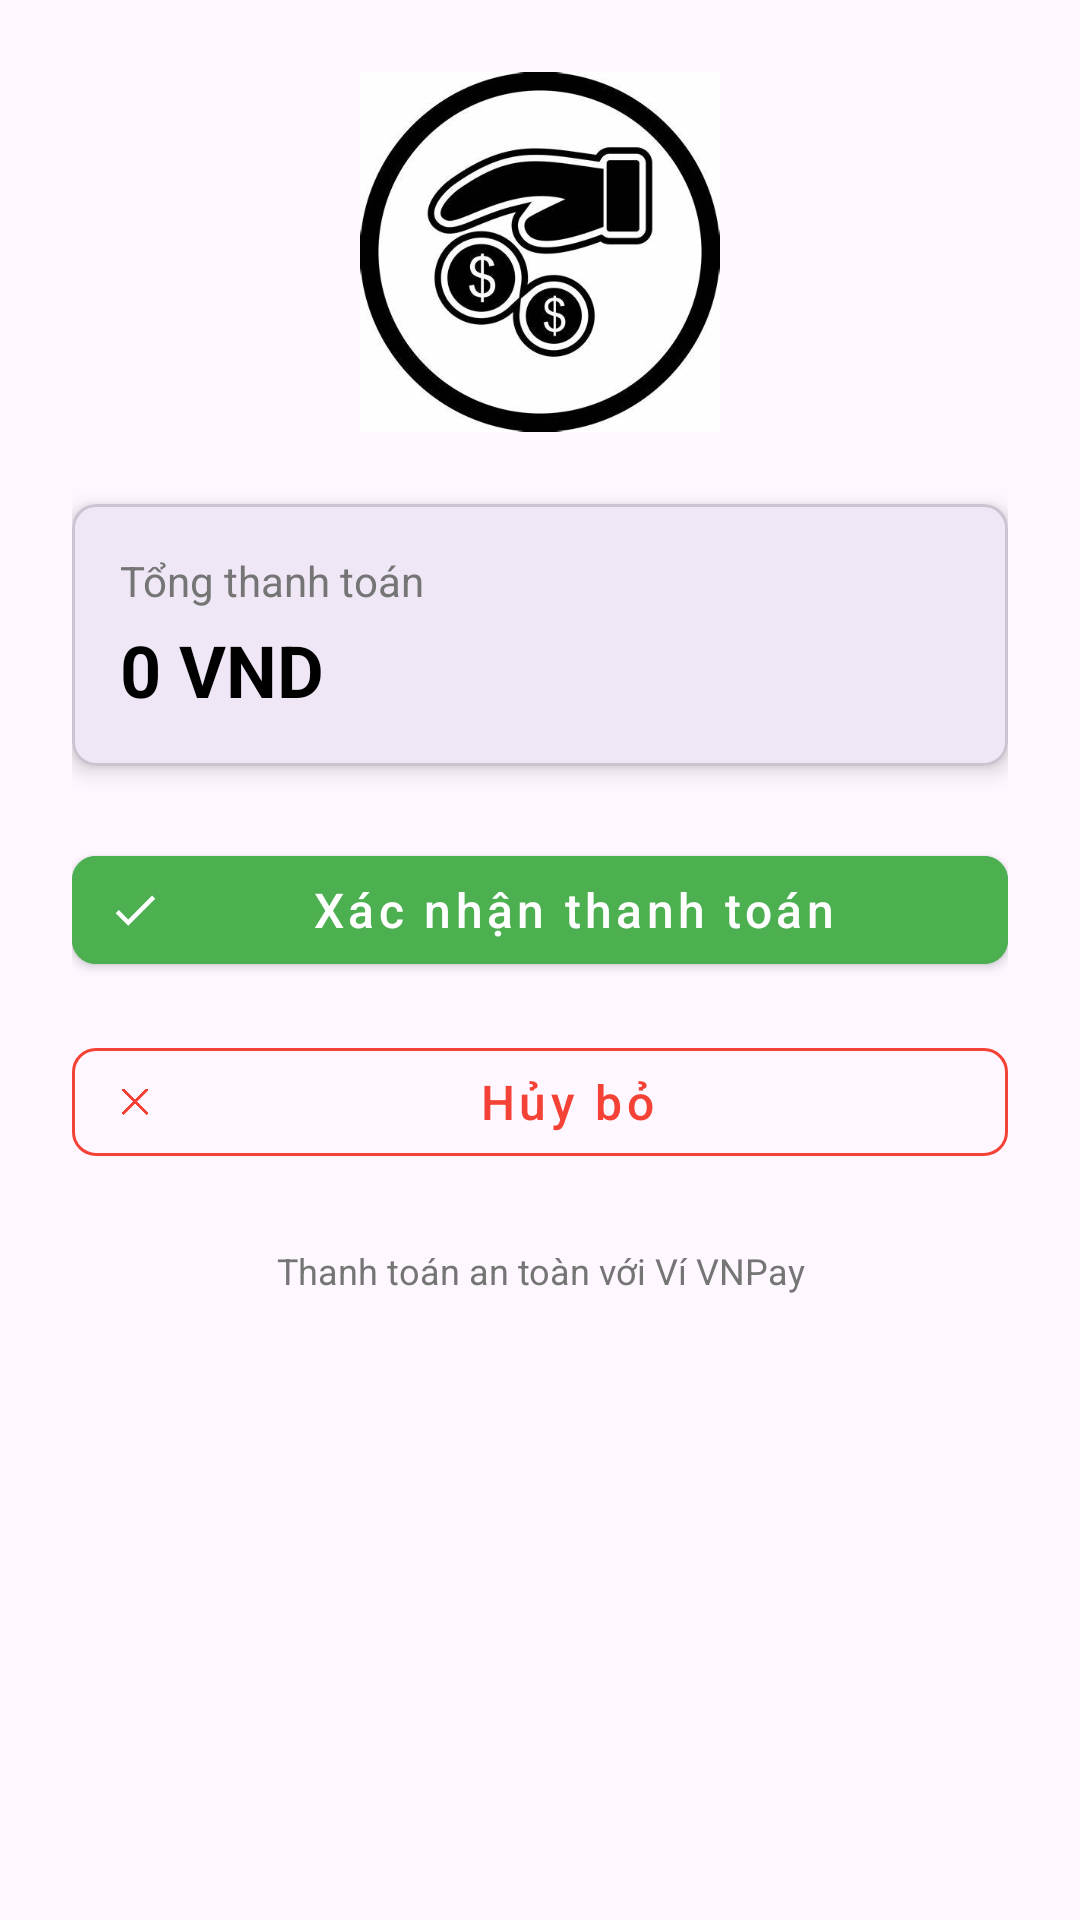

Where icons sit on this 1080px x 1920px app screen, as BBox(x1, y1, x2, y2):
Payment icon: BBox(360, 72, 720, 432)
